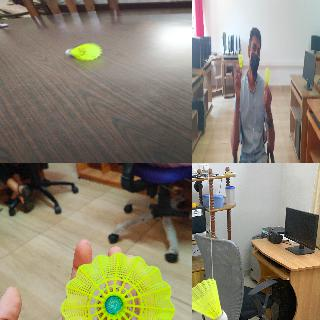shuttlecock: (59, 251, 173, 319), (192, 278, 227, 319), (65, 42, 101, 60), (238, 54, 243, 72), (265, 67, 270, 84)
